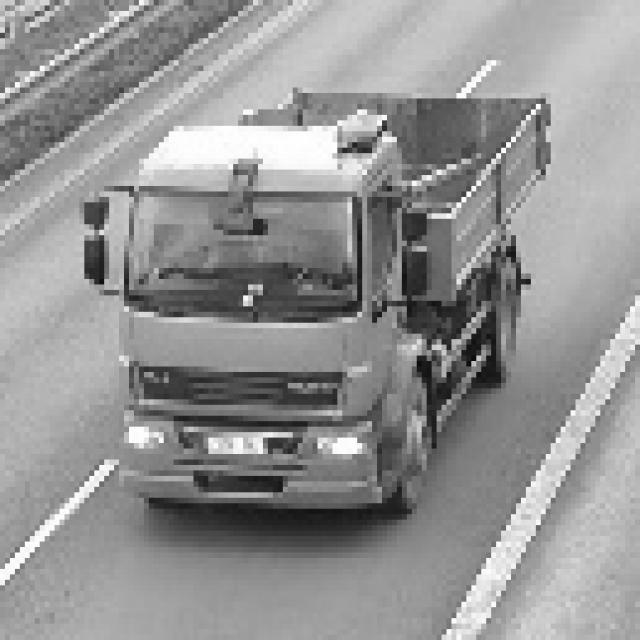truck: (85, 107, 436, 515)
